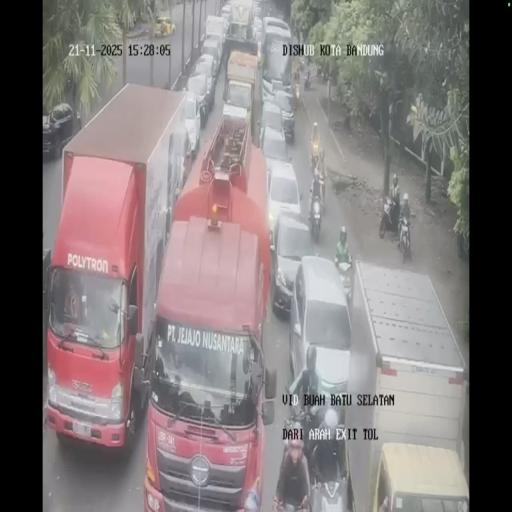car: (271, 208, 313, 316), (258, 101, 287, 159), (185, 72, 211, 132), (262, 16, 292, 54), (203, 15, 226, 64), (251, 15, 264, 48), (220, 3, 232, 33)
motorcycle: (290, 399, 322, 461), (378, 195, 398, 239), (396, 213, 413, 263), (335, 257, 353, 299), (308, 195, 324, 242), (316, 163, 326, 206), (310, 143, 321, 175), (304, 69, 312, 90), (316, 65, 322, 77)
truck: (46, 82, 199, 454), (346, 263, 468, 510)
